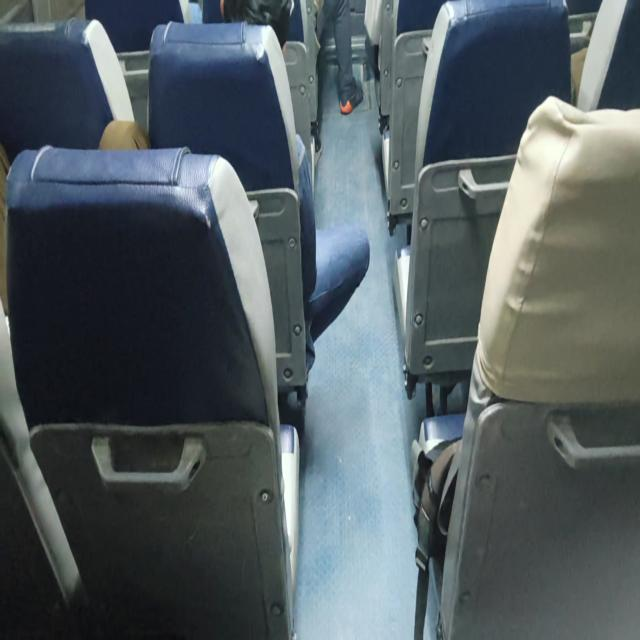person: (98, 15, 370, 416), (315, 0, 364, 116), (220, 0, 293, 54)
